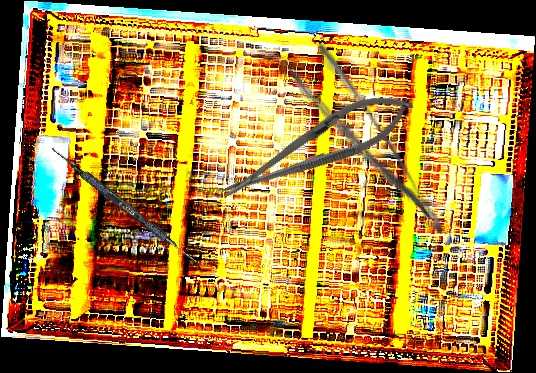Dressing Forceps: (284, 39, 450, 257)
Needle Holder: (210, 77, 424, 216)
Spatula Surgical: (47, 146, 208, 271)
